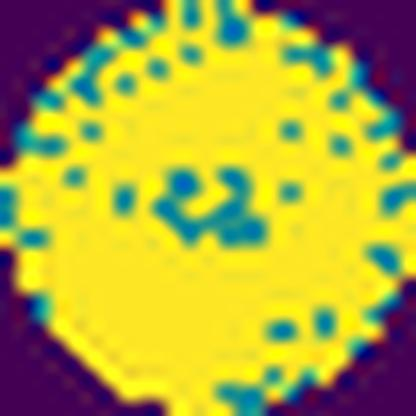Near-full: (0, 40, 382, 416)
